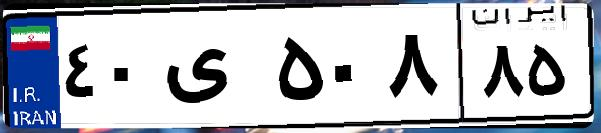0: (330, 28, 385, 110), (110, 28, 158, 98)
4: (57, 26, 110, 100)
5: (270, 28, 330, 110), (525, 38, 570, 115)
8: (385, 28, 445, 110), (475, 38, 525, 113)
ی: (158, 20, 270, 120)
